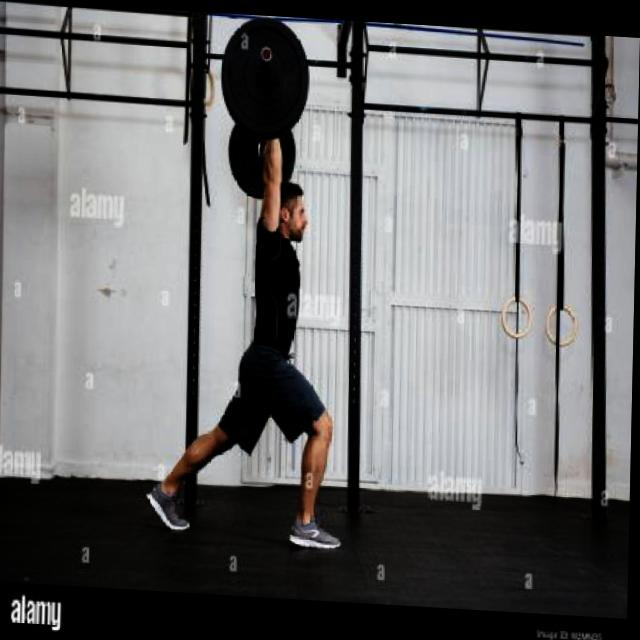barbell: (218, 11, 312, 143)
